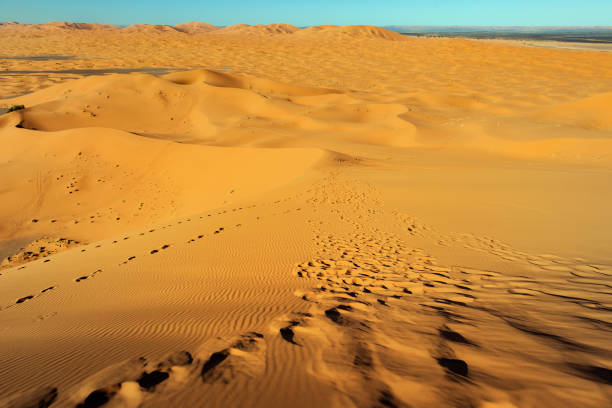human_footprint: (283, 211, 610, 405), (55, 332, 265, 407)
